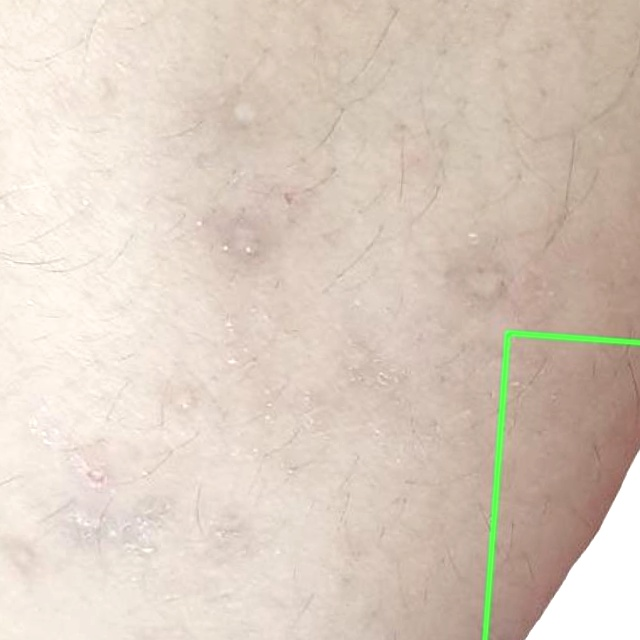Scabies: (484, 332, 639, 639)
